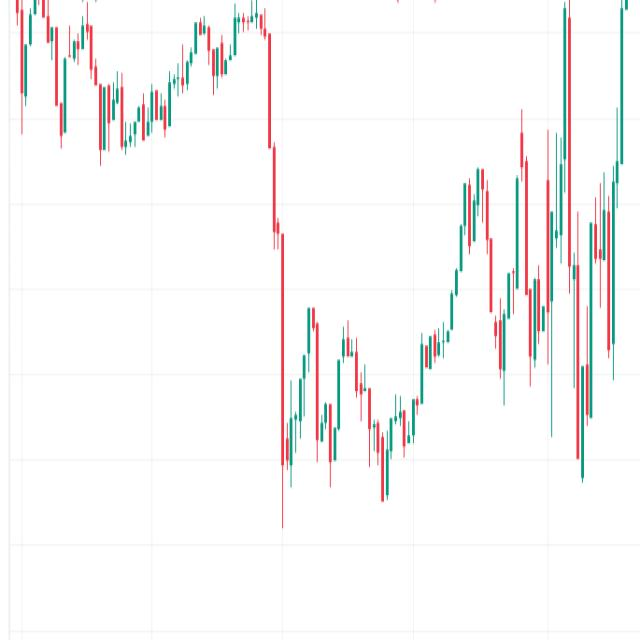Triple-Bottom: (263, 317, 434, 468)
